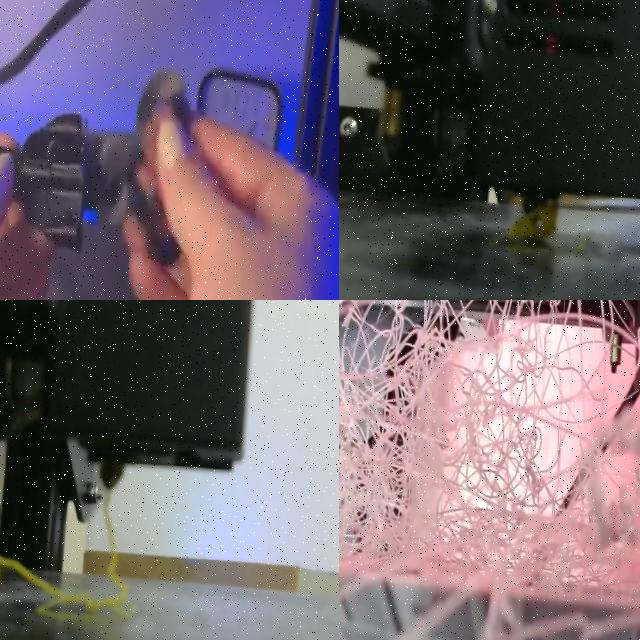spaghetti: (339, 300, 640, 640), (0, 491, 133, 619), (507, 200, 556, 242)
